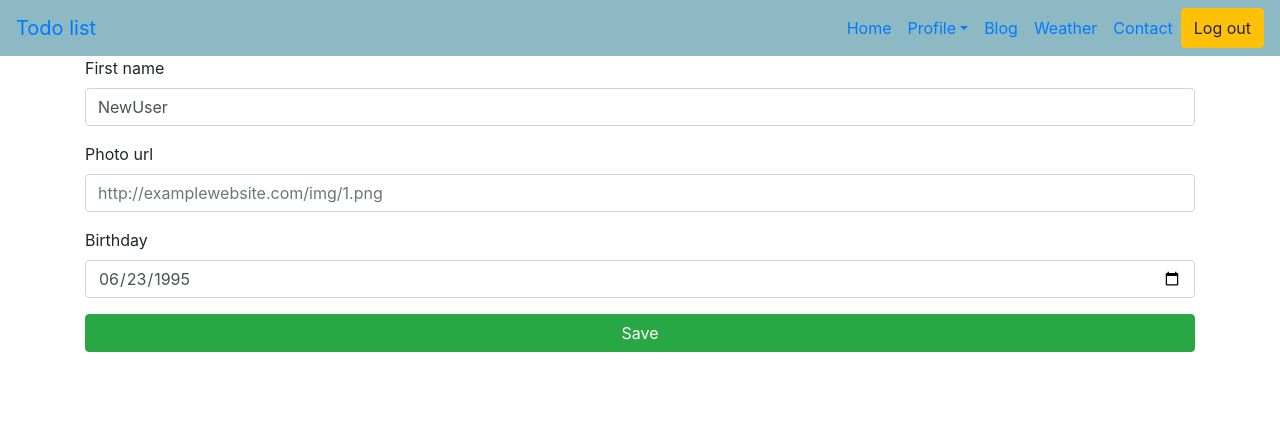
Test: Profile › Change user data
The width and height of the screenshot is (1280, 431).
Replace the text in the field with test id "user-name-input" with "Test User" at (640, 107), box [85,88,1195,126]
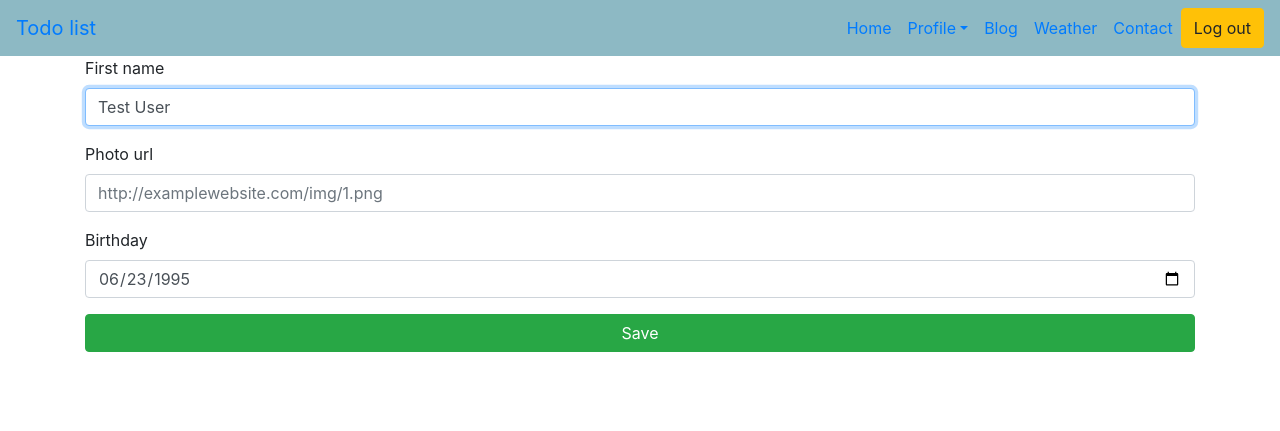
Type "https://i0.wp.com/zblogged.com/wp-content/uploads/2019/02/FakeDP.jpeg" into the field with test id "user-photo-input".
click(640, 193); type("https://i0.wp.com/zblogged.com/wp-content/uploads/2019/02/FakeDP.jpeg")  # box [85,174,1195,212]
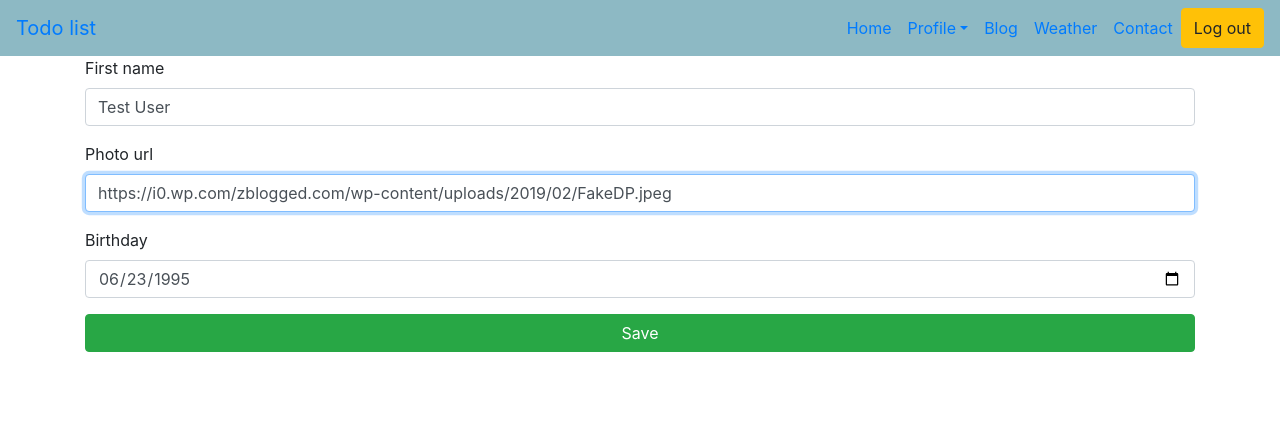
Type "2015-07-21" into the date field with test id "user-birthday-input".
click(640, 279); type("2015-07-21")  # box [85,260,1195,298]
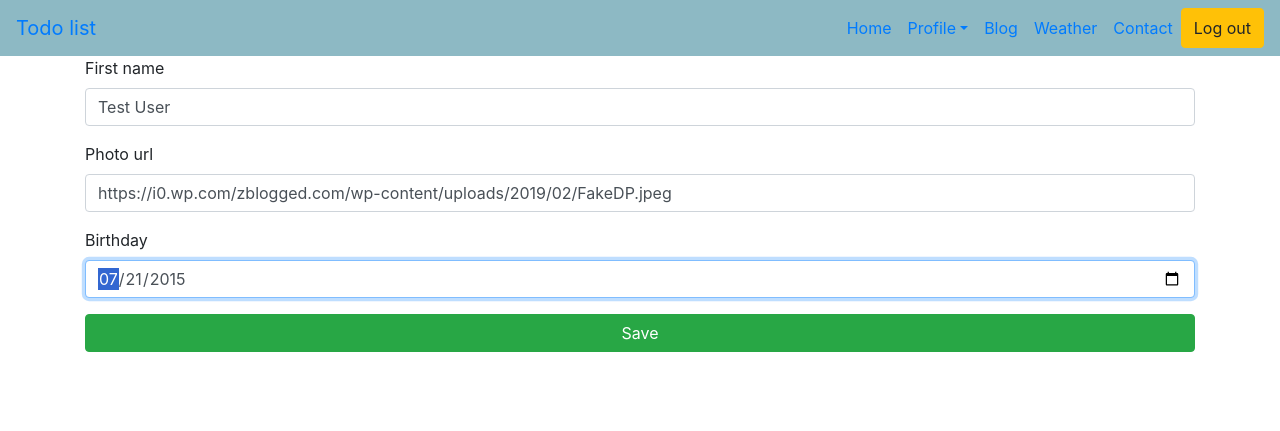
Click the button with test id "submit-button".
click(640, 333)  # box [85,314,1195,352]
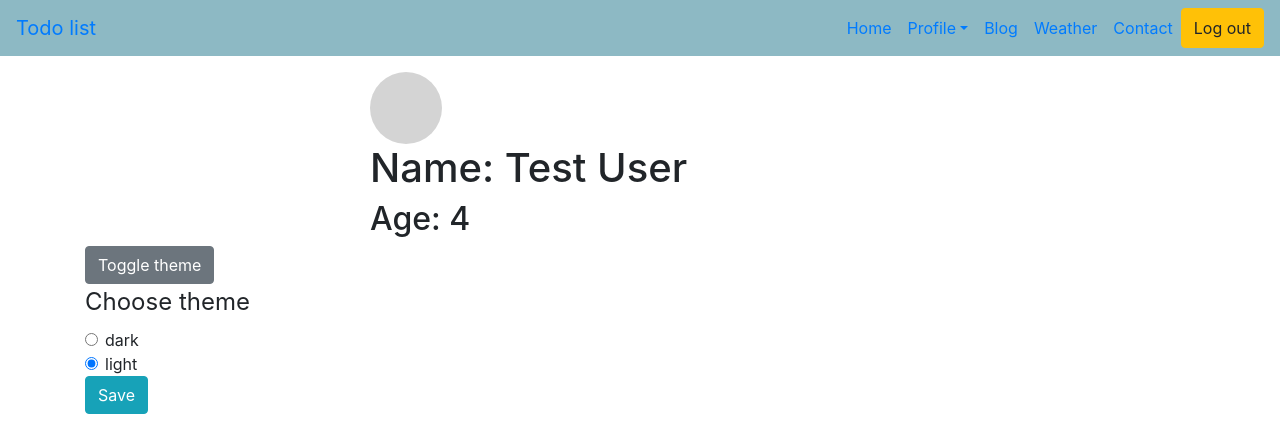
Expected: the heading "Name: Test User" is shown, [370,143,687,192]
Expected: the heading "Age: 4" is shown, [370,199,470,238]
